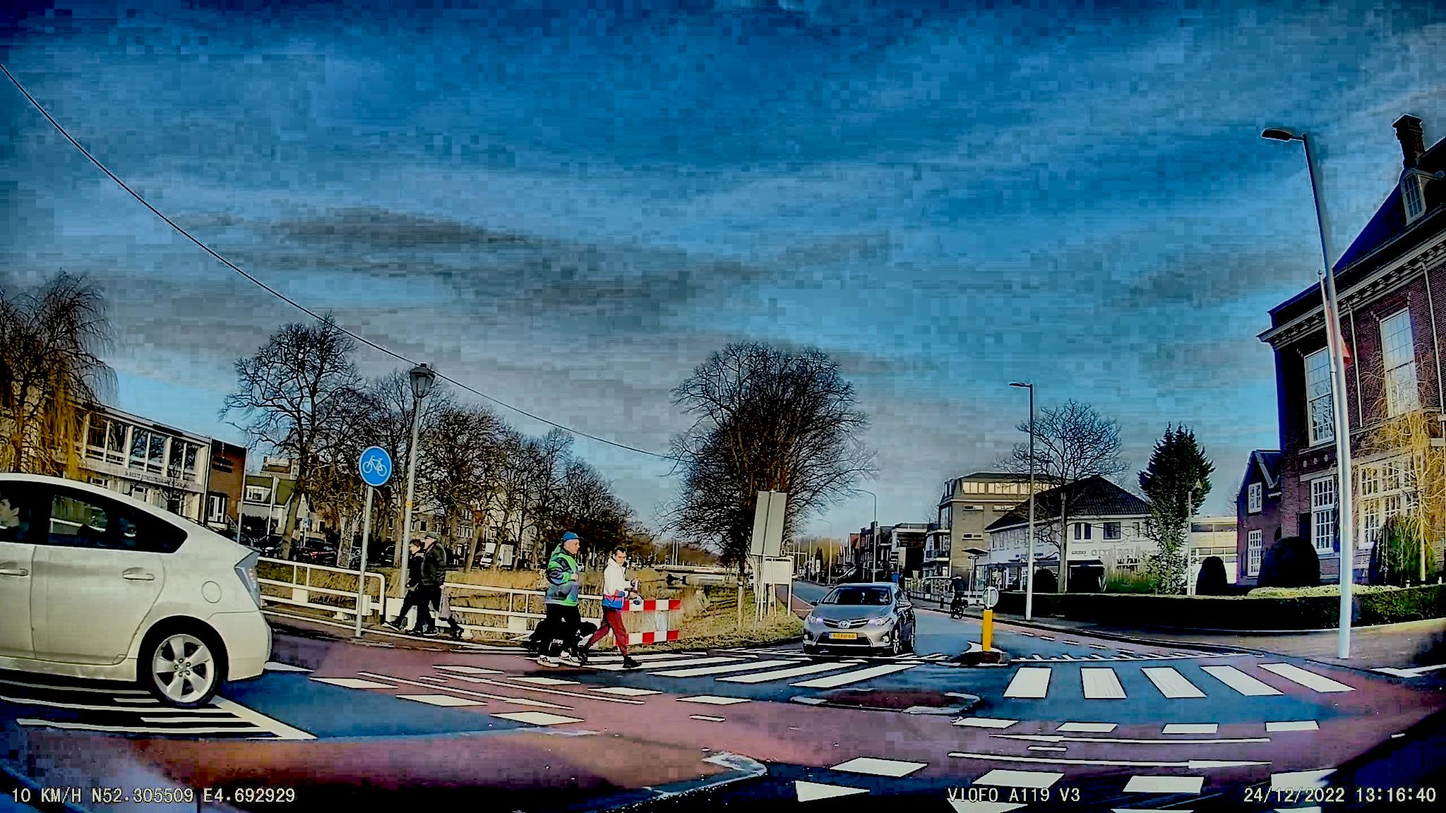Roads: (0, 611, 1436, 813)
